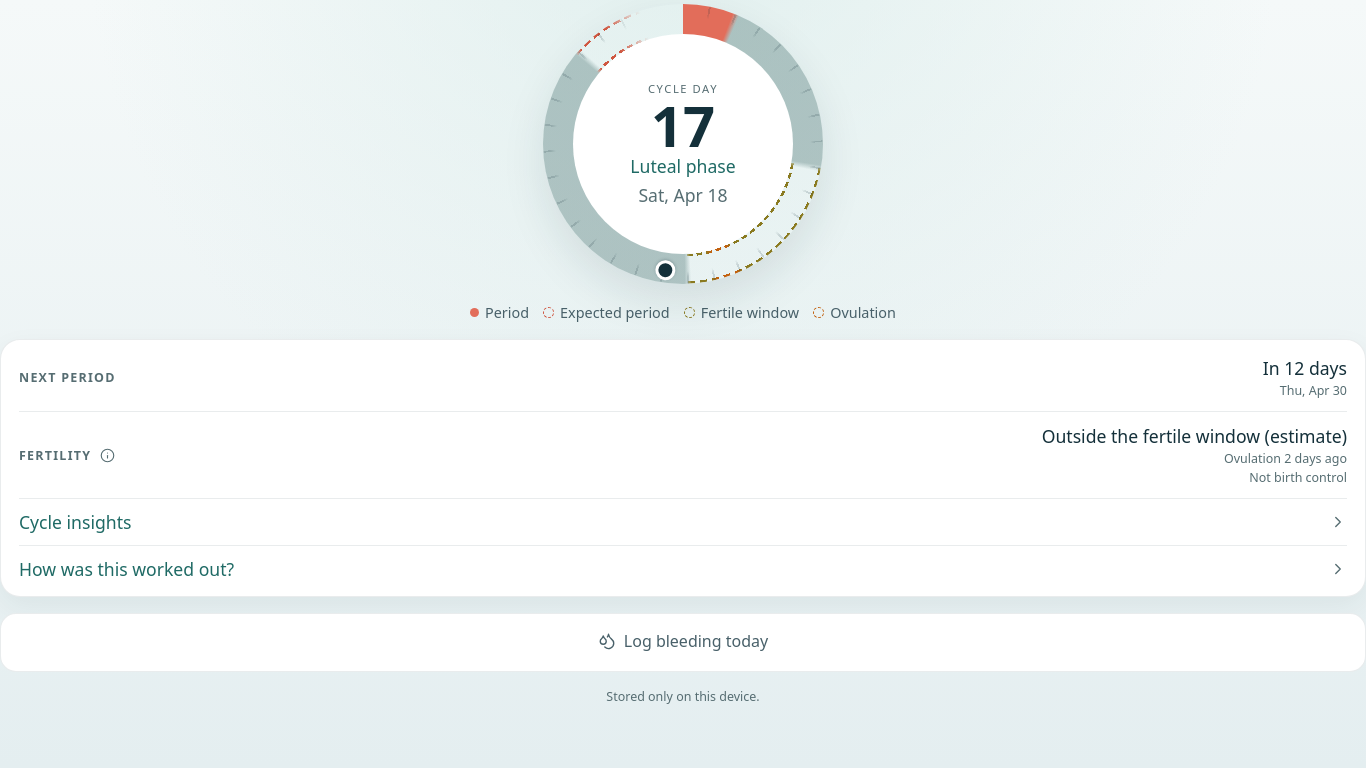
Test: TodayScreen › opens the cycle insights dialog with the stats behind the estimate
The image size is (1366, 768).
Click the button "Cycle insights" at coordinates (75, 522), box [19, 498, 1347, 545]
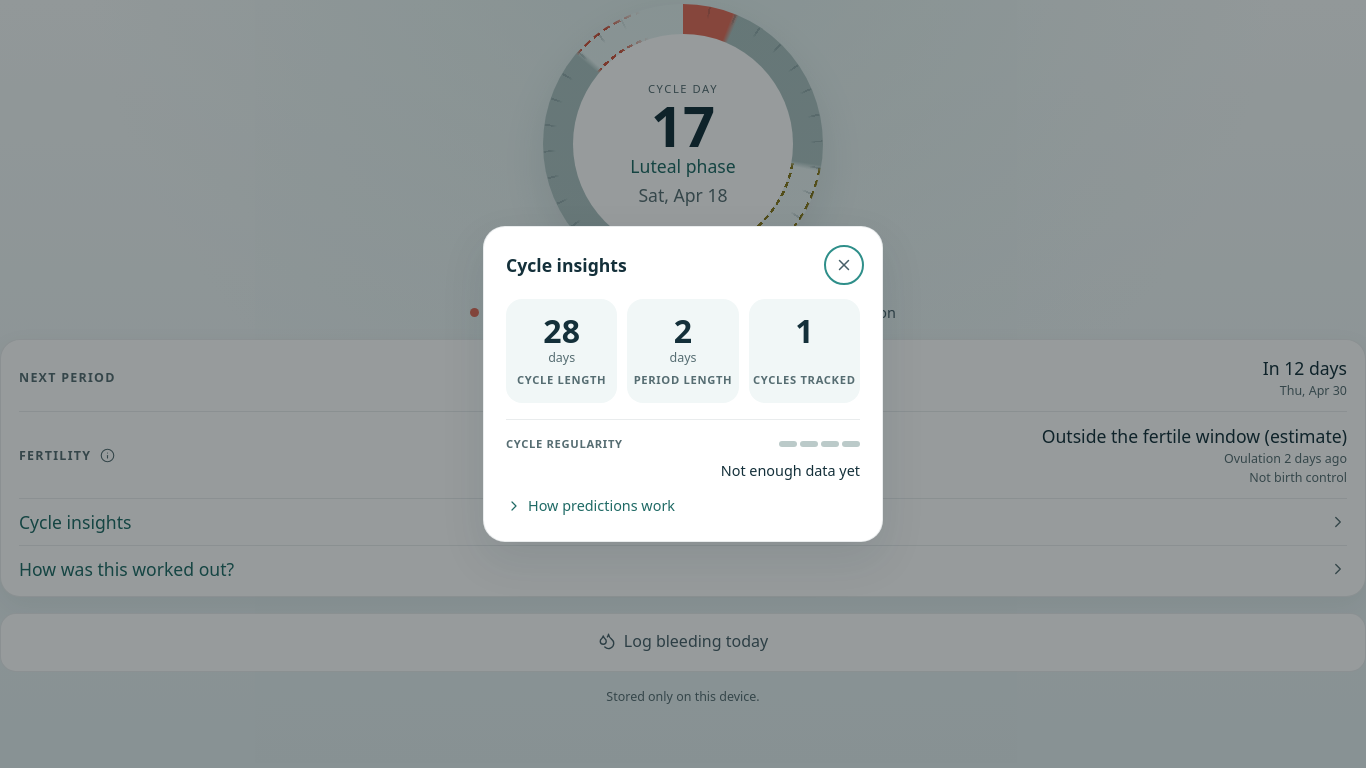
Expected: the dialog is shown, [483, 226, 883, 542]
Expected: the heading "Cycle insights" is shown, [506, 253, 627, 277]
Expected: the text "Cycle length" is shown, [517, 368, 606, 387]
Click the button named "close" at coordinates (844, 265), box [828, 249, 860, 281]
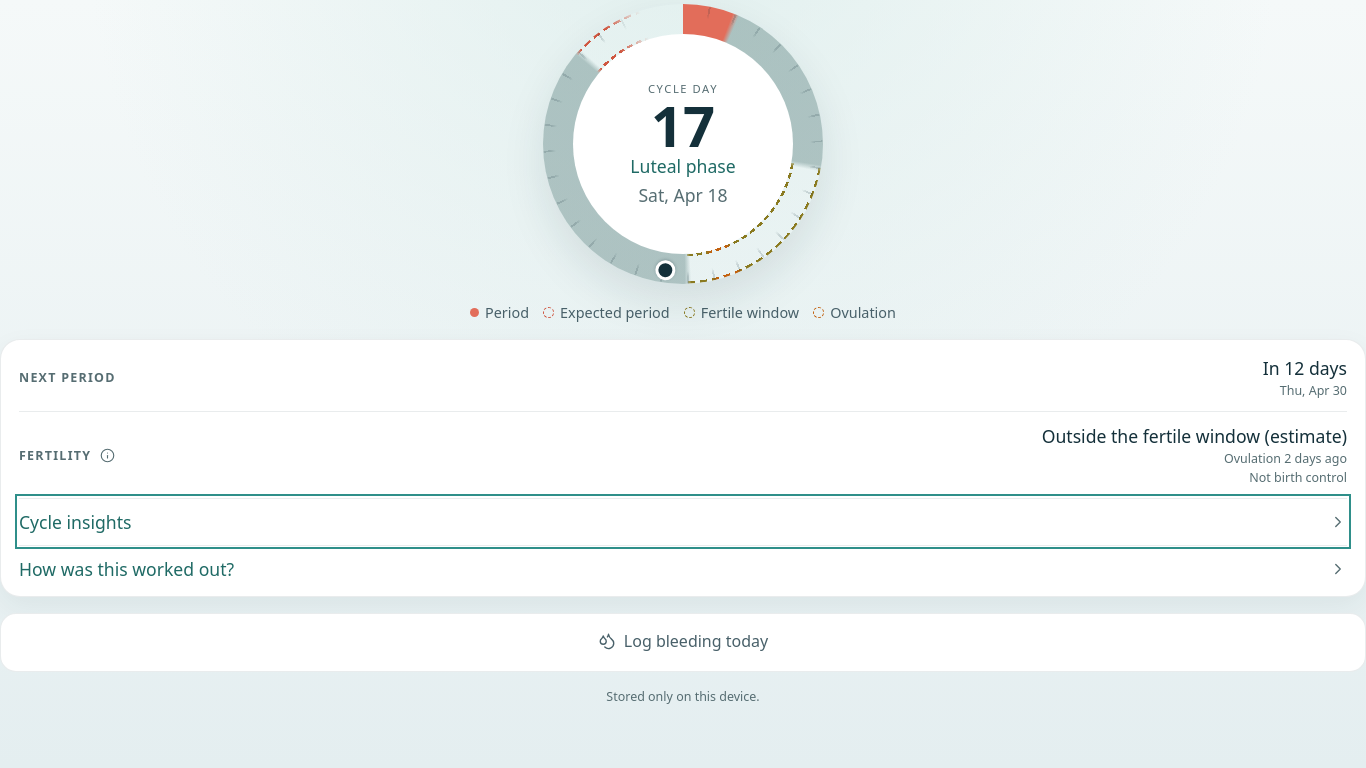
Expected: the dialog is gone
